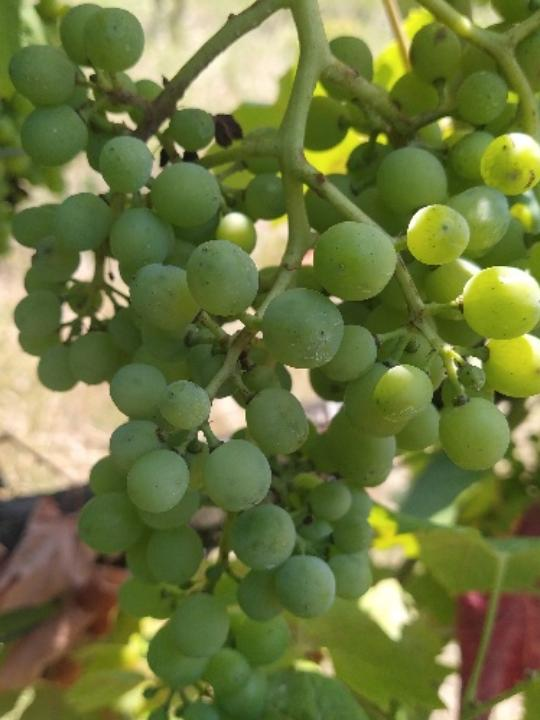grape: (0, 0, 540, 720)
